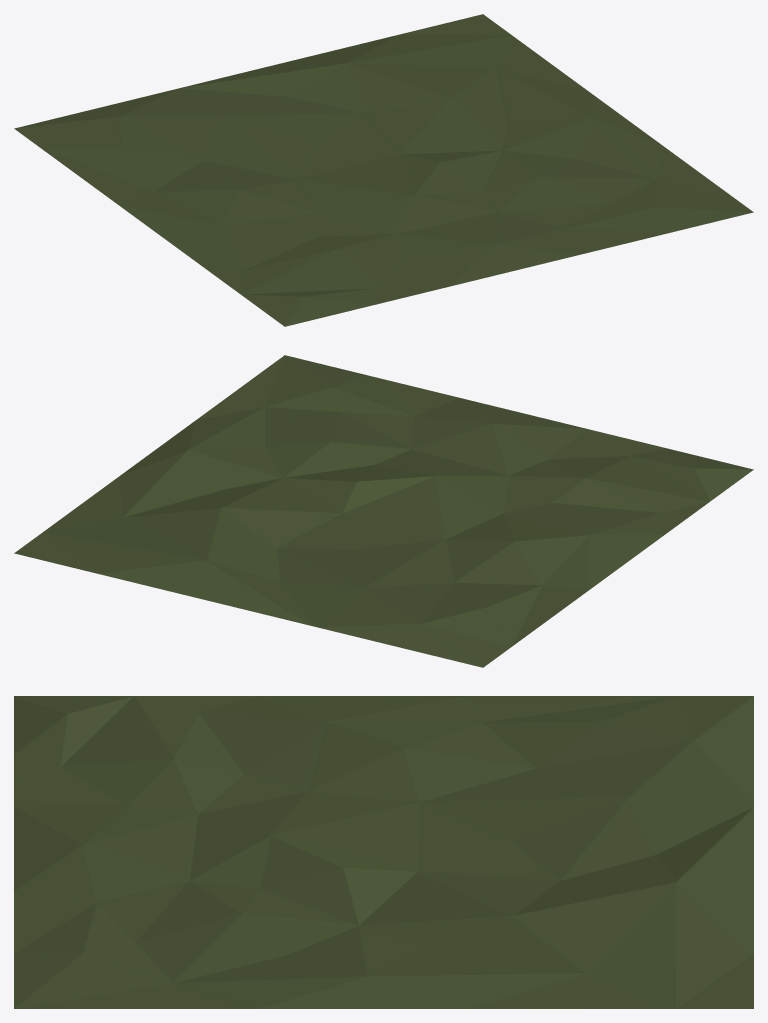
File: ground_02.fbx
3 renders of one model, top to bottom at view 1: azimuth 30°, elevation 25°; view 2: azimuth 150°, elevation 25°; view 3: azimuth 270°, elevation 25°, orthographic. The views are drawn at different scales.
Visible parts, largest first — view 1: ground_02; view 2: ground_02; view 3: ground_02.
Part boxes in pixels (left/top/right/bottom): ground_02: left=14, top=14, right=753, bottom=326; ground_02: left=14, top=355, right=753, bottom=667; ground_02: left=14, top=696, right=753, bottom=1008.
Size of the model in its own units: 20 by 0.4972 by 20.
